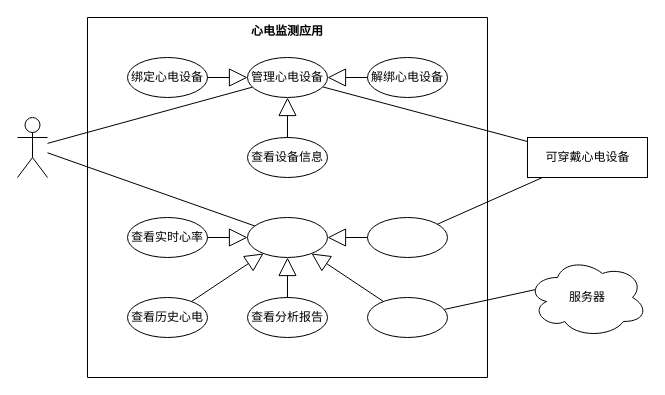
Some shapes in this 665 by 395 pixel diagram are drawn without their labels. The box of each missing label's shape, as (x1, y1, x2, y2) in pixels:
上传心电数据: (366, 296, 448, 338)
患者: (16, 116, 48, 178)
查看实时心电: (366, 216, 448, 258)
管理心电数据: (246, 216, 328, 258)
